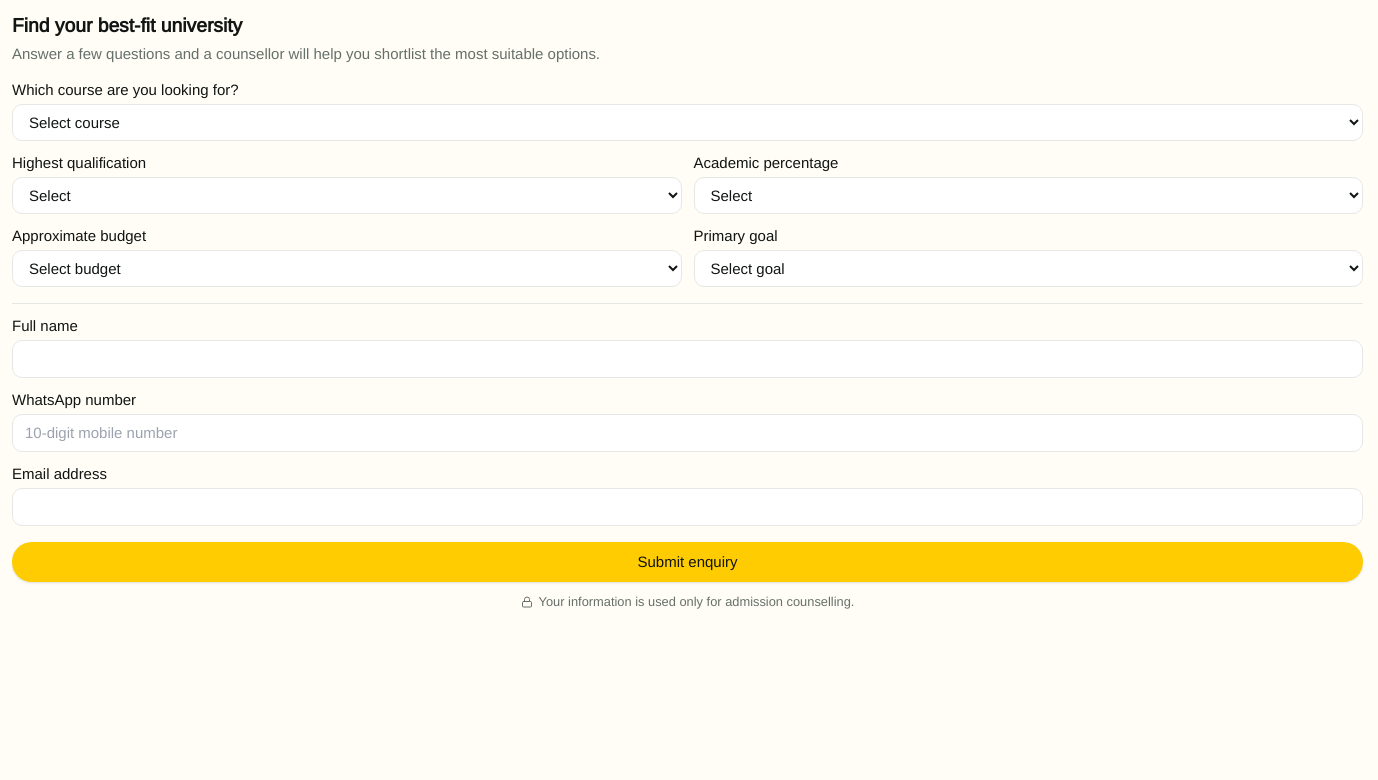
Test case: UniversityMatchForm › validates name and phone before submitting
This screenshot has width=1378, height=780.
Click the button "Submit enquiry" at x=688, y=562, box [12,542,1363,582]
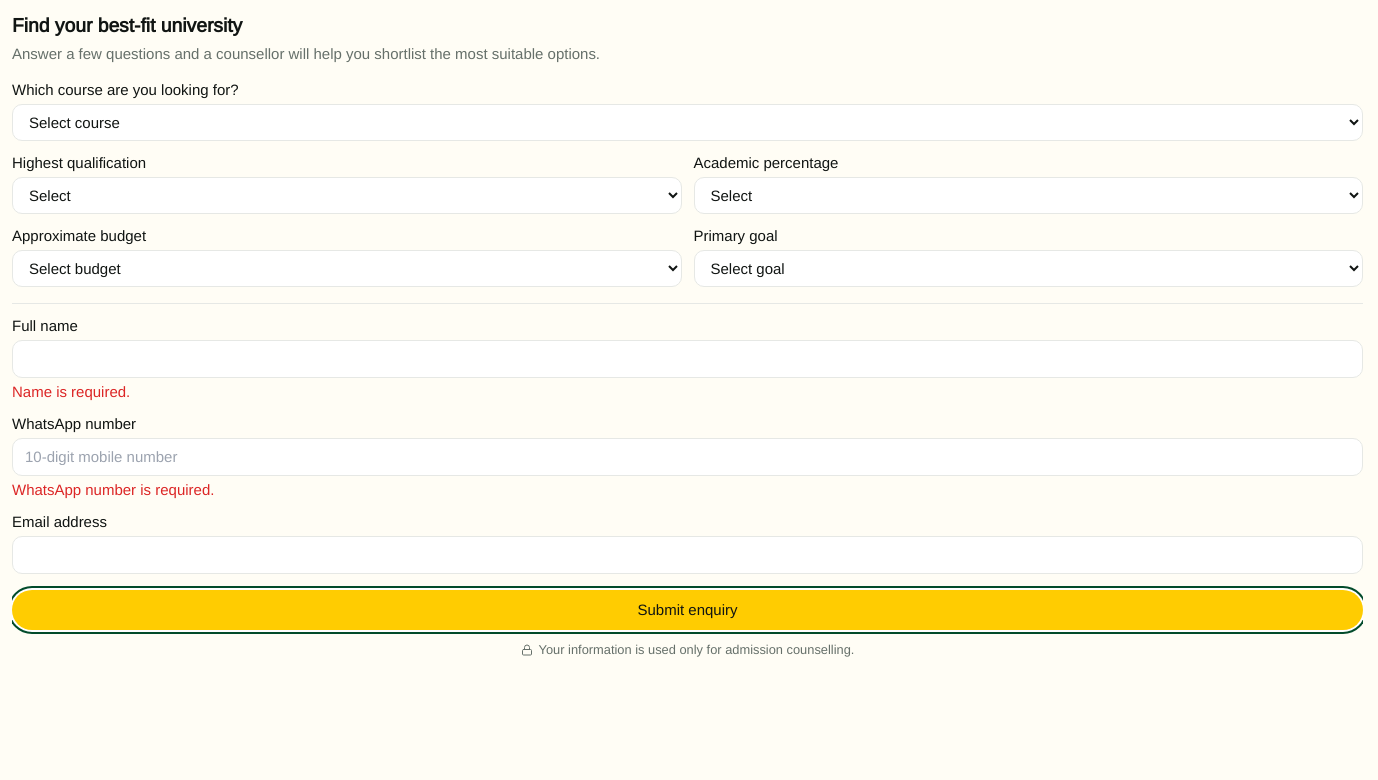
Expected: the text "Name is required." is shown, [12,383,130,400]
Expected: the text "WhatsApp number is required." is shown, [12,481,214,498]
